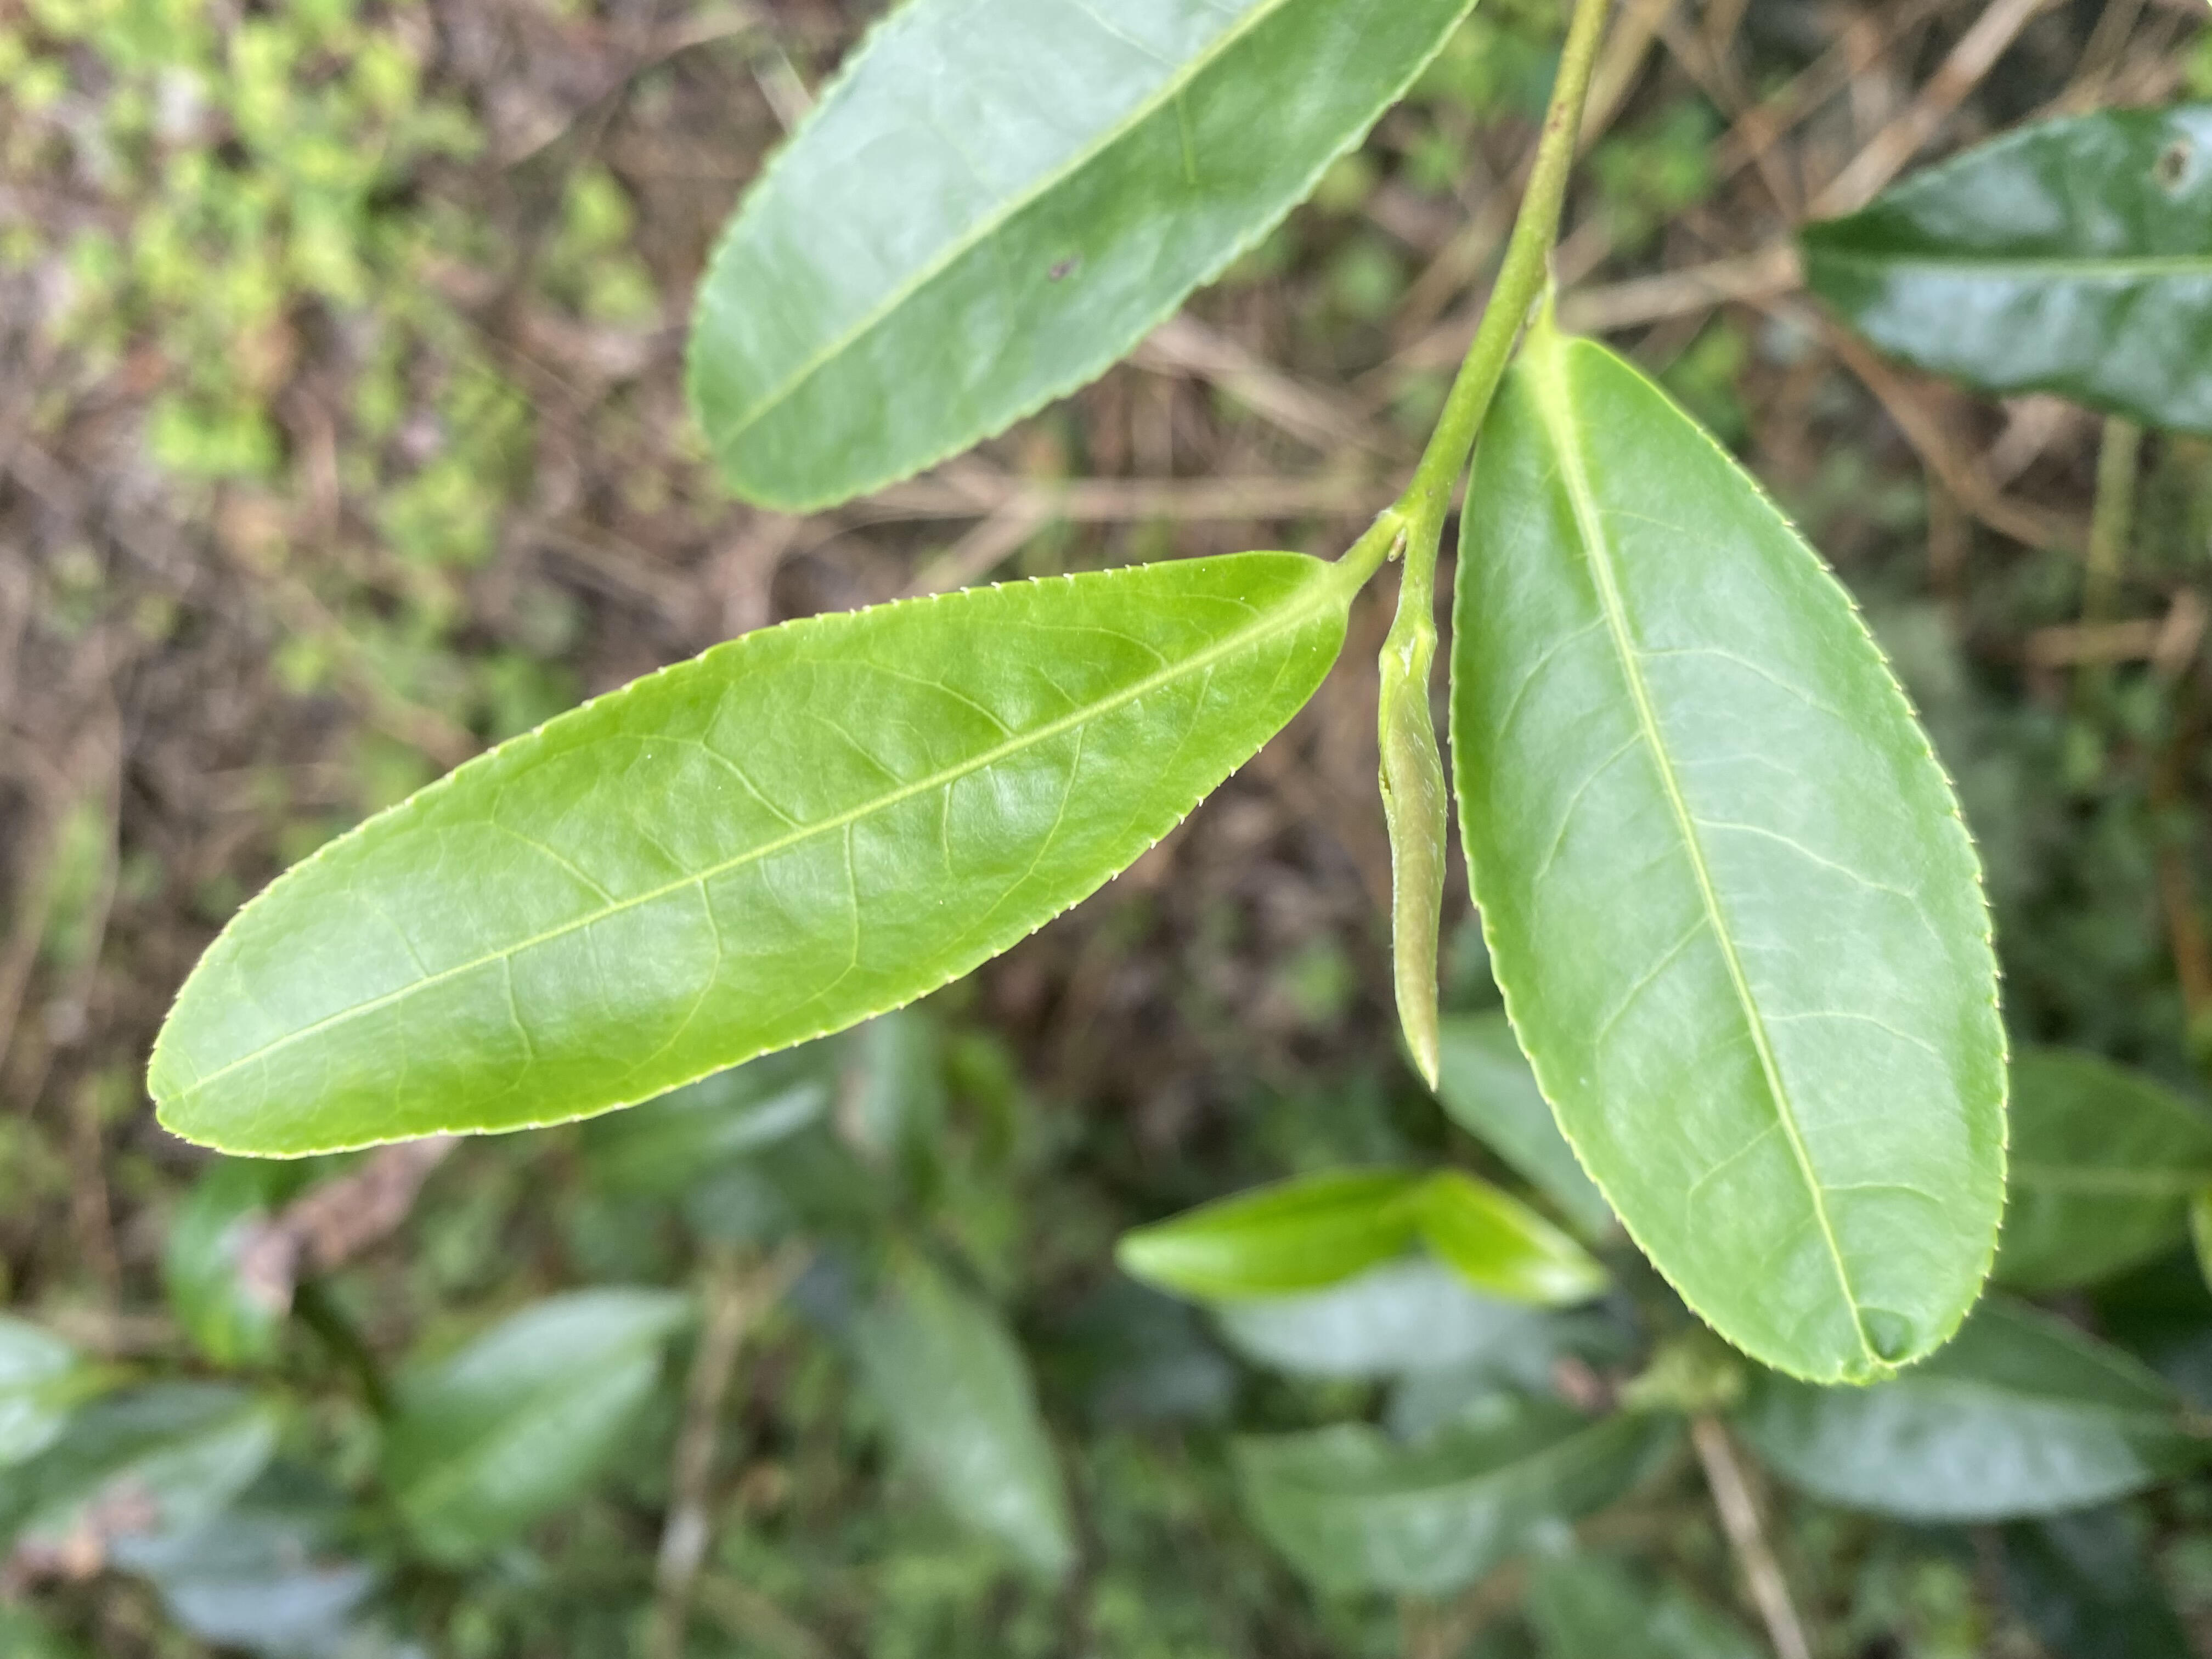healthy: (141, 551, 1350, 1159), (1449, 329, 2013, 1391)
tanju_low: (690, 2, 1480, 518)
